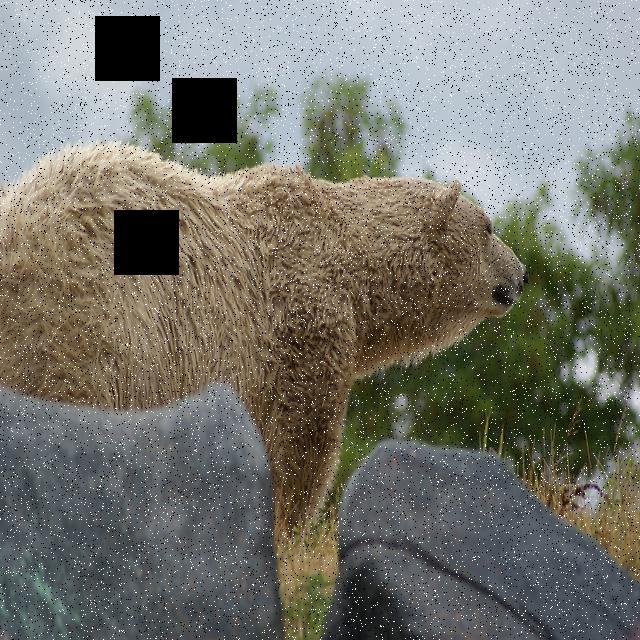Bear: (0, 120, 527, 556)
